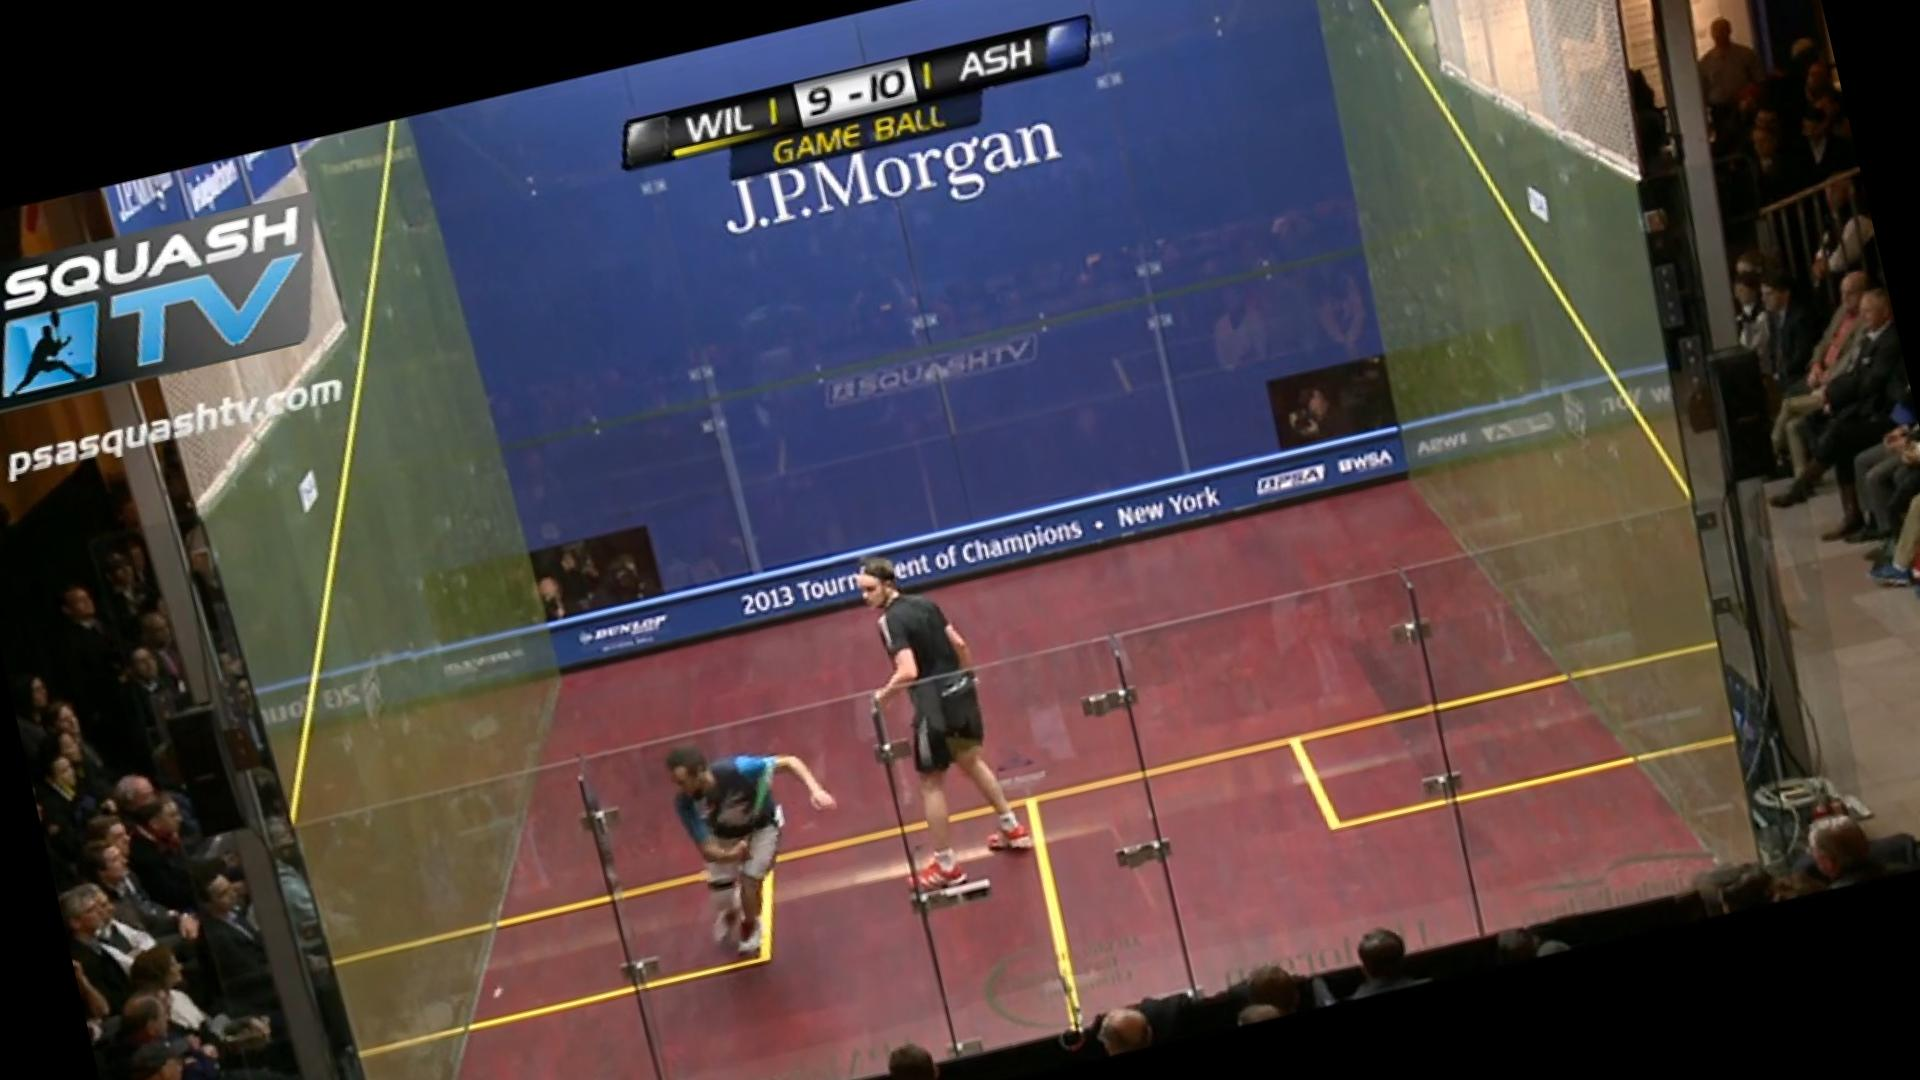Squash-Ball: (481, 973, 527, 1006)
